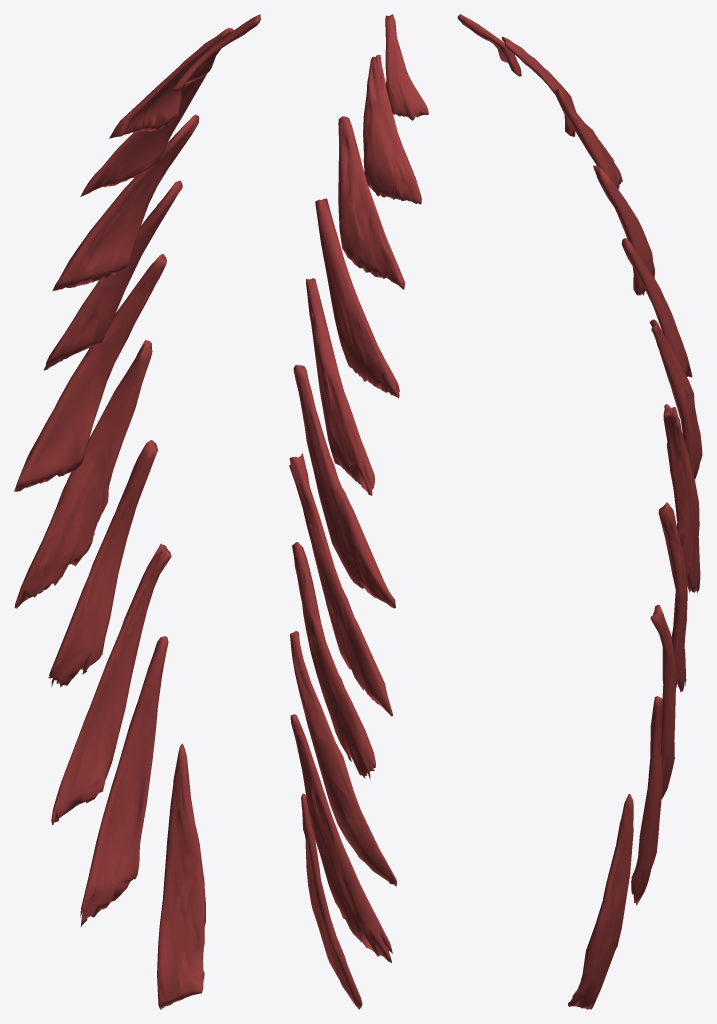
File: levatores-longi-costarum-r.glb
3 renders of one model, left to right at view 1: azimuth 30°, elevation 25°; view 2: azimuth 150°, elevation 25°; view 3: azimuth 270°, elevation 25°, orthographic. The views are drawn at different scales.
Visible parts, largest first — view 1: Levatores longi costarum.r; view 2: Levatores longi costarum.r; view 3: Levatores longi costarum.r.
Boxes of the visible parts, bbox=[...] form: Levatores longi costarum.r: bbox=[14, 14, 260, 1009]; Levatores longi costarum.r: bbox=[289, 14, 428, 1009]; Levatores longi costarum.r: bbox=[457, 14, 702, 1009].
Bounding box in the file's own units: 0.0472 × 0.3298 × 0.0725.
